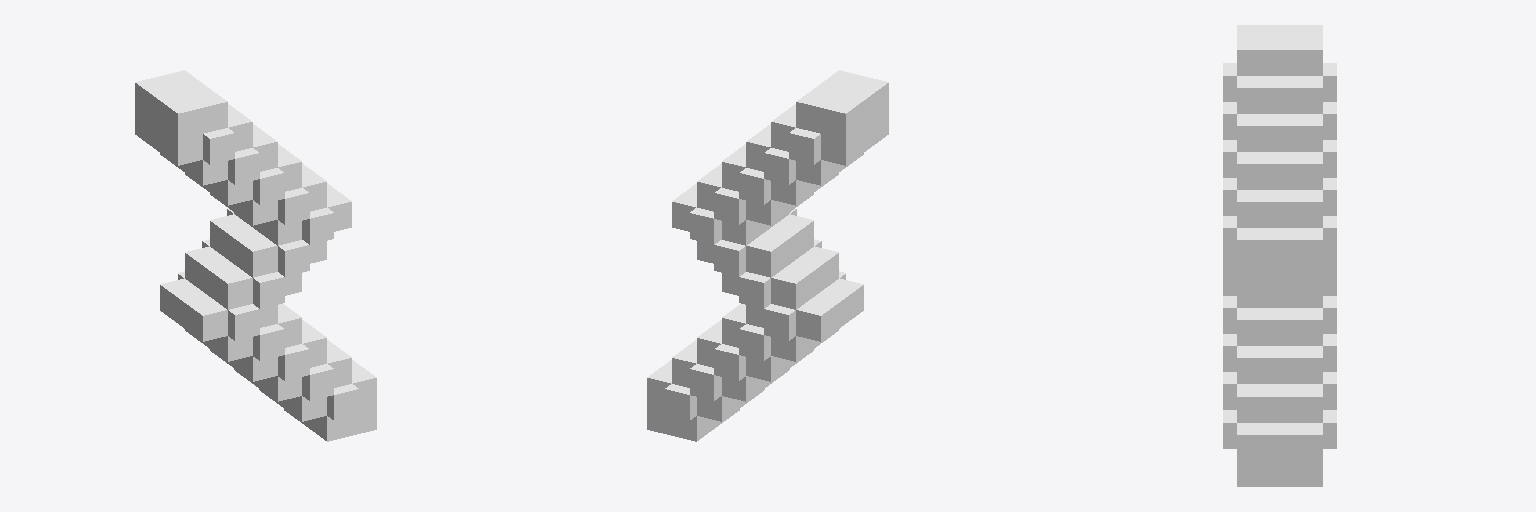
The model's file is PowerIcon.obj.
3 views of the same model, side by side, from view 1: azimuth 30°, elevation 25°; view 2: azimuth 150°, elevation 25°; view 3: azimuth 270°, elevation 25° (orthographic).
Size of the model in its own units: 8 by 14 by 4.